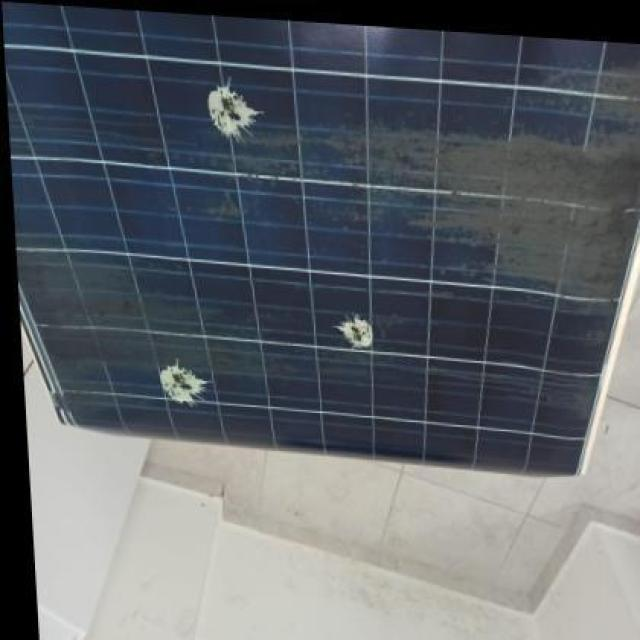soiled: (12, 3, 639, 471)
